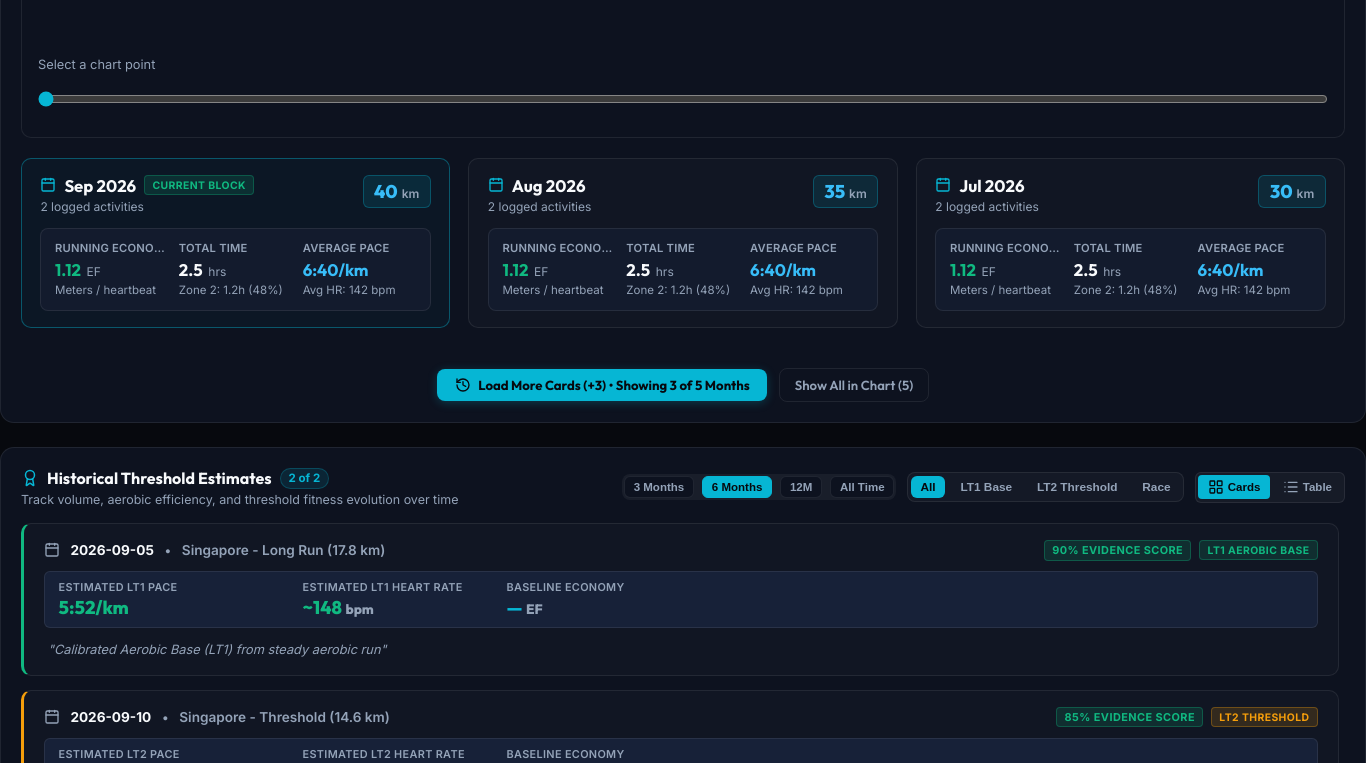
ProgressView UI Tests › renders the Show All in Chart action with the shared rounded outline button style
The width and height of the screenshot is (1366, 763).
(page scrolled)
Click the button "Show All in Chart (5)": [854, 385] box [779,368,929,402]
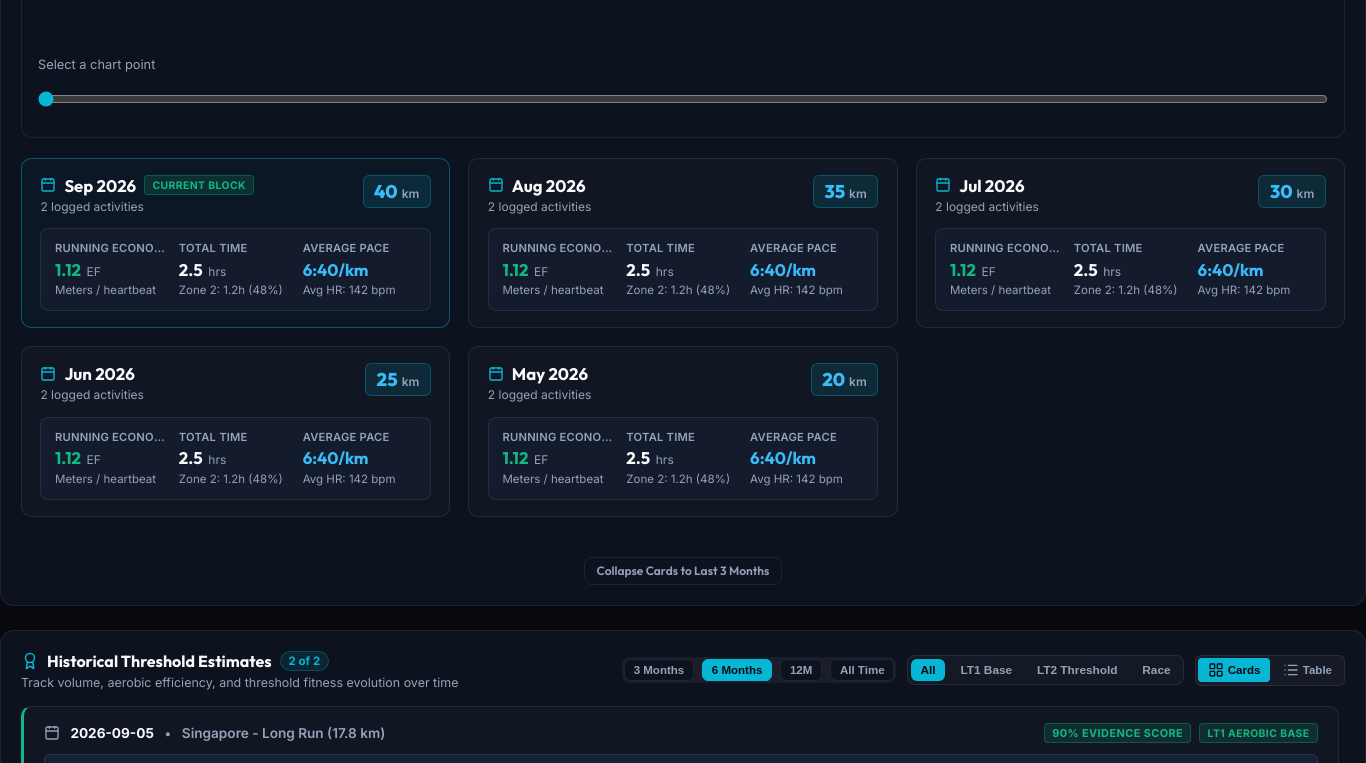
Result: the button "Show All in Chart" is gone
